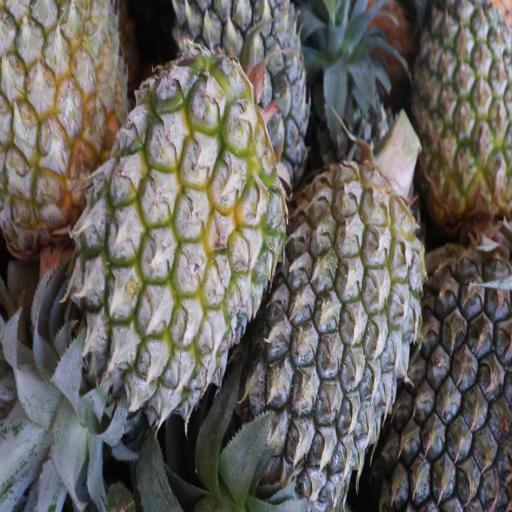------------------------------: (86, 74, 280, 413), (0, 0, 136, 236), (420, 0, 511, 229)
